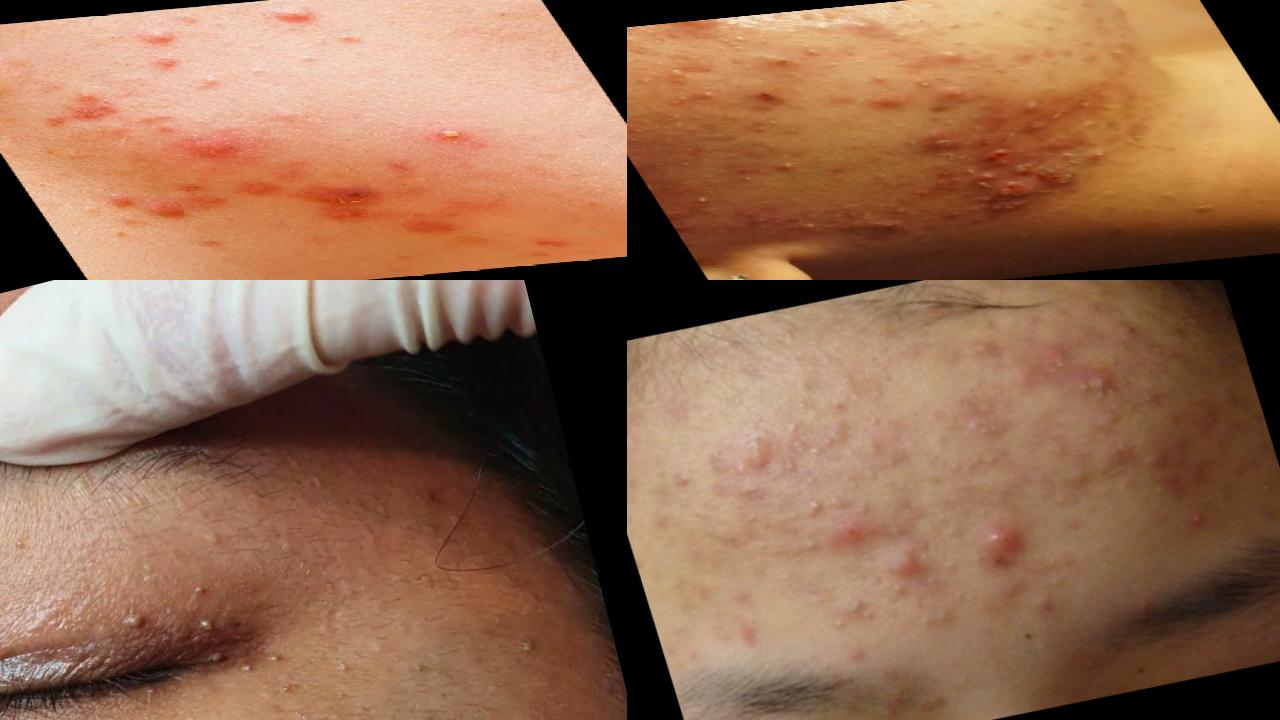blackhead: (86, 24, 144, 48), (330, 29, 383, 51), (151, 9, 206, 29), (125, 180, 161, 197), (239, 64, 279, 79), (96, 164, 125, 182), (97, 60, 132, 71)
milium: (185, 595, 236, 645), (327, 657, 360, 693), (268, 648, 290, 677)
papular: (103, 128, 285, 174), (20, 87, 149, 132), (369, 208, 496, 248), (299, 178, 408, 214), (812, 505, 877, 559), (213, 172, 311, 204), (732, 428, 788, 480), (1092, 436, 1150, 482), (878, 537, 931, 586), (826, 15, 898, 46), (133, 202, 194, 229), (845, 95, 896, 122), (906, 132, 963, 145)
purulent: (962, 510, 1046, 576), (924, 85, 995, 112), (411, 125, 482, 147), (262, 6, 318, 32), (927, 49, 973, 72)
sebo-crystan-conglo: (1017, 344, 1089, 389), (959, 194, 1061, 223), (1068, 364, 1132, 405), (1023, 162, 1088, 194), (973, 144, 1024, 171), (972, 181, 1033, 197)
whitehead: (1166, 511, 1230, 559), (954, 396, 1015, 445), (824, 588, 886, 636), (1090, 313, 1151, 360), (907, 600, 969, 639), (656, 462, 708, 503), (967, 436, 1014, 481), (950, 335, 1010, 370), (676, 185, 734, 216), (747, 158, 818, 179), (1013, 630, 1053, 664), (677, 86, 731, 111), (852, 433, 894, 464), (795, 432, 834, 464), (1034, 573, 1077, 602), (1033, 483, 1074, 513), (798, 491, 836, 522), (785, 43, 840, 63), (1082, 45, 1133, 65), (970, 7, 1018, 28), (899, 71, 946, 92), (934, 519, 964, 551), (934, 551, 964, 580), (793, 534, 824, 562), (1139, 450, 1171, 477), (708, 32, 758, 47), (1059, 463, 1093, 485), (932, 22, 970, 40), (1071, 113, 1106, 132)
